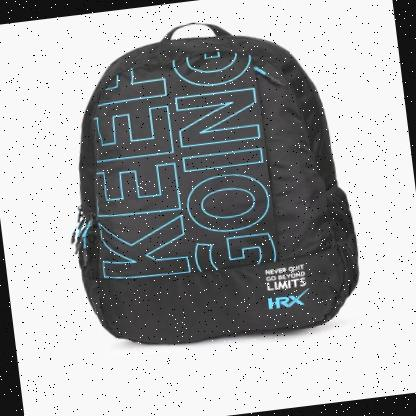bag: (40, 4, 374, 367)
